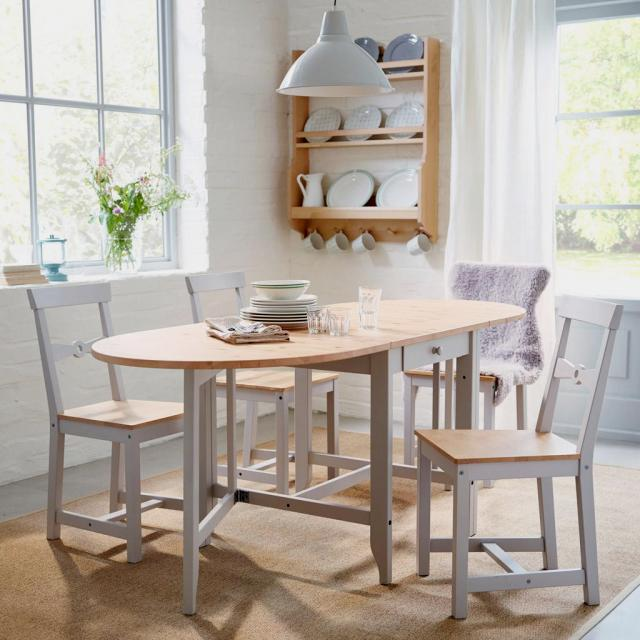obstacle: (21, 258, 622, 622)
